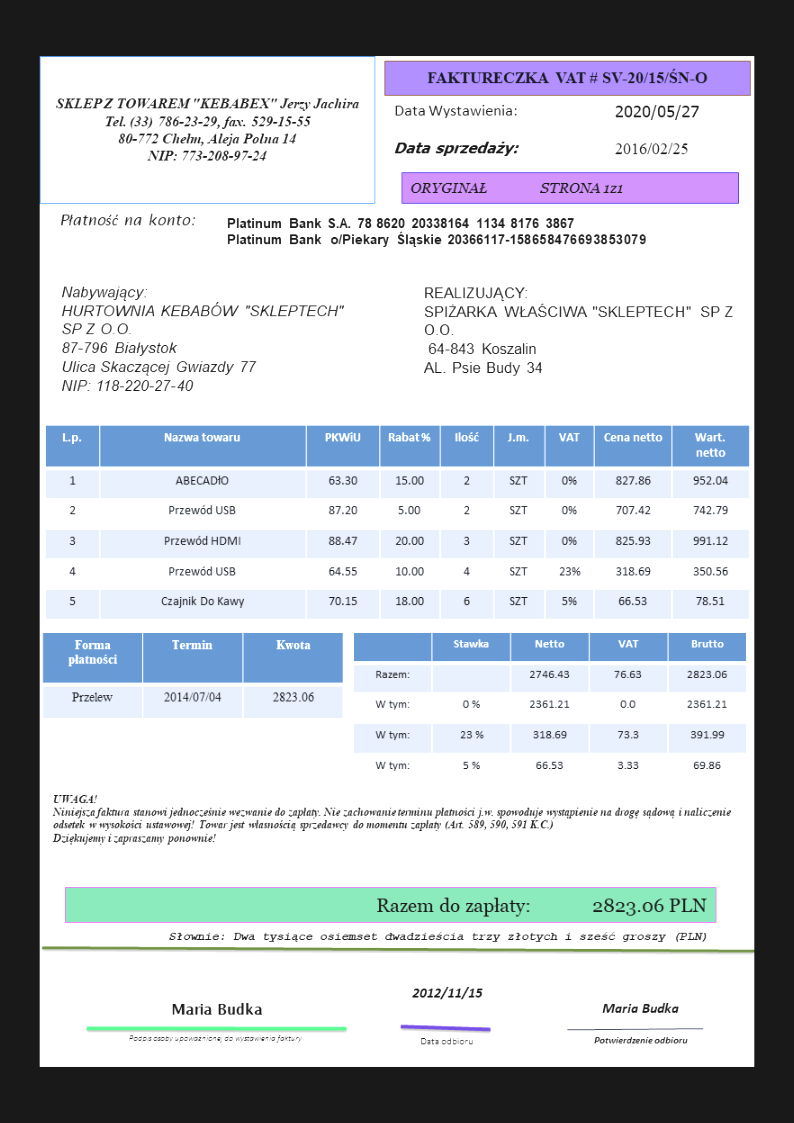Table: (43, 422, 751, 623), (350, 630, 748, 786), (42, 630, 346, 720)
TextBox: (51, 790, 733, 847), (60, 282, 348, 394), (420, 284, 736, 376), (52, 92, 360, 168), (225, 214, 651, 251), (372, 891, 708, 921), (164, 928, 708, 944), (426, 64, 714, 89), (408, 179, 626, 197), (58, 210, 195, 229), (390, 101, 519, 119), (392, 141, 521, 158), (612, 100, 702, 123), (125, 1032, 306, 1043), (168, 999, 266, 1018), (591, 1033, 690, 1047), (599, 1000, 682, 1016), (613, 140, 690, 156), (409, 984, 486, 1000), (417, 1034, 478, 1048)
